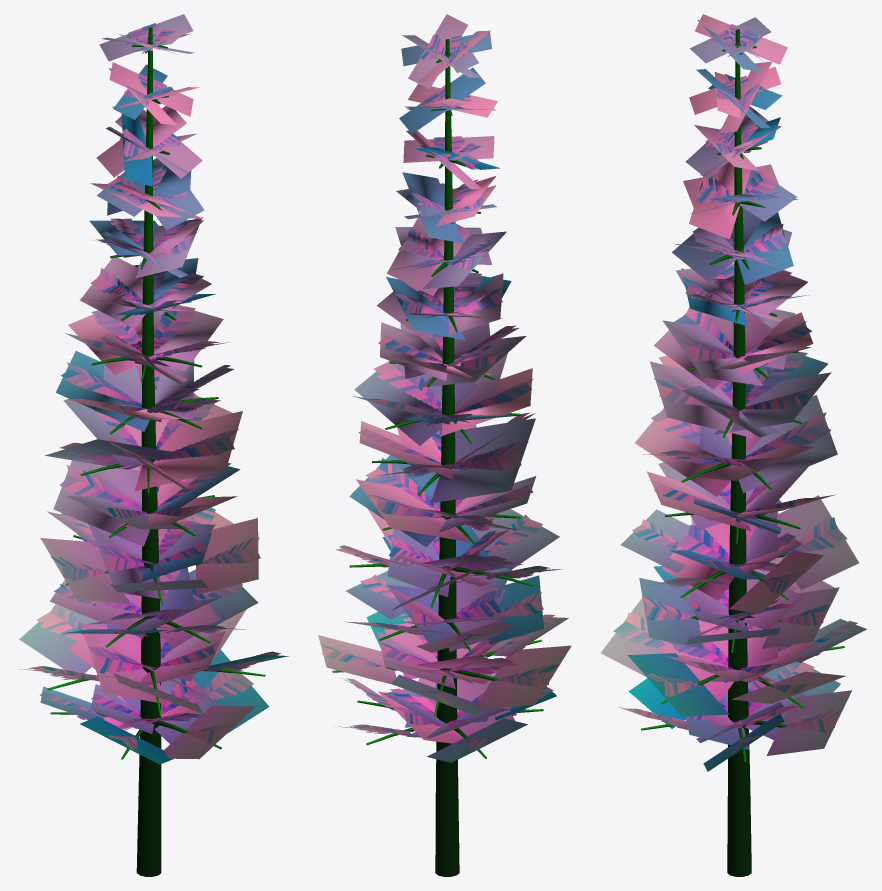
The model's file is araucaria_2.glb.
The picture shows the model from 3 angles, left to right: view 1: azimuth 30°, elevation 25°; view 2: azimuth 150°, elevation 25°; view 3: azimuth 270°, elevation 25°; orthographic projection.
Parts seen in each view (by area): view 1: mid, near; view 2: mid, near; view 3: mid, near.
Boxes of the visible parts, left/top/right/bottom form: mid: left=15, top=14, right=288, bottom=872; near: left=28, top=23, right=280, bottom=876; mid: left=318, top=14, right=571, bottom=865; near: left=319, top=34, right=559, bottom=876; mid: left=600, top=14, right=866, bottom=771; near: left=613, top=24, right=857, bottom=876.
Size of the model in its own units: 5.58 by 19.98 by 5.69.
